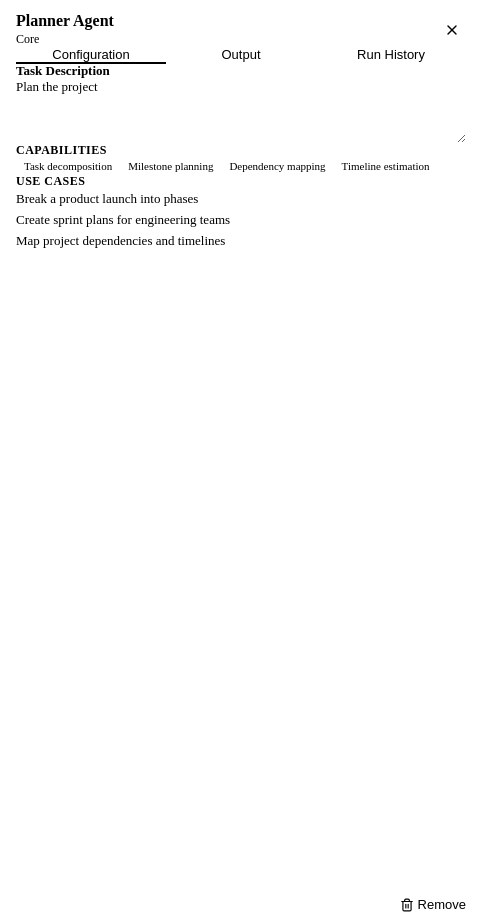
Test: NodeConfigPanel › shows output when node has output
Click the tab "Output" at x=241, y=56, box [166, 47, 316, 64]
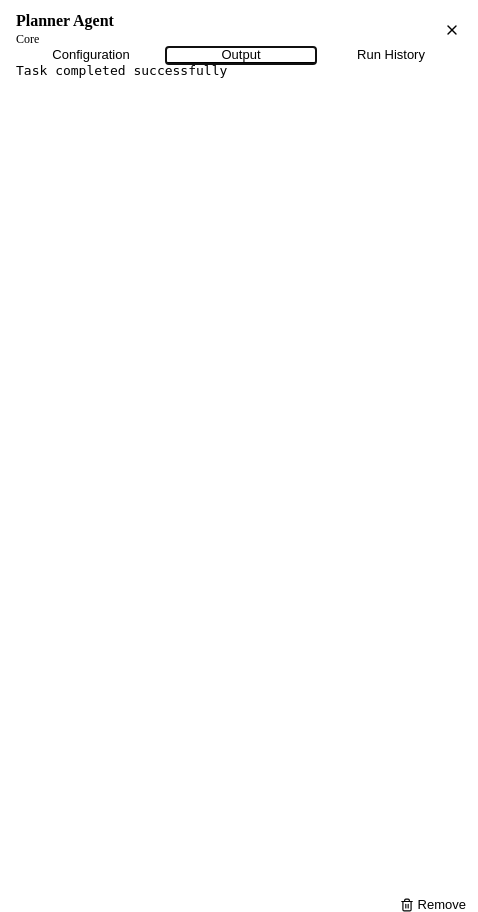
Check: the text "Task completed successfully" is shown, box [16, 63, 227, 78]
